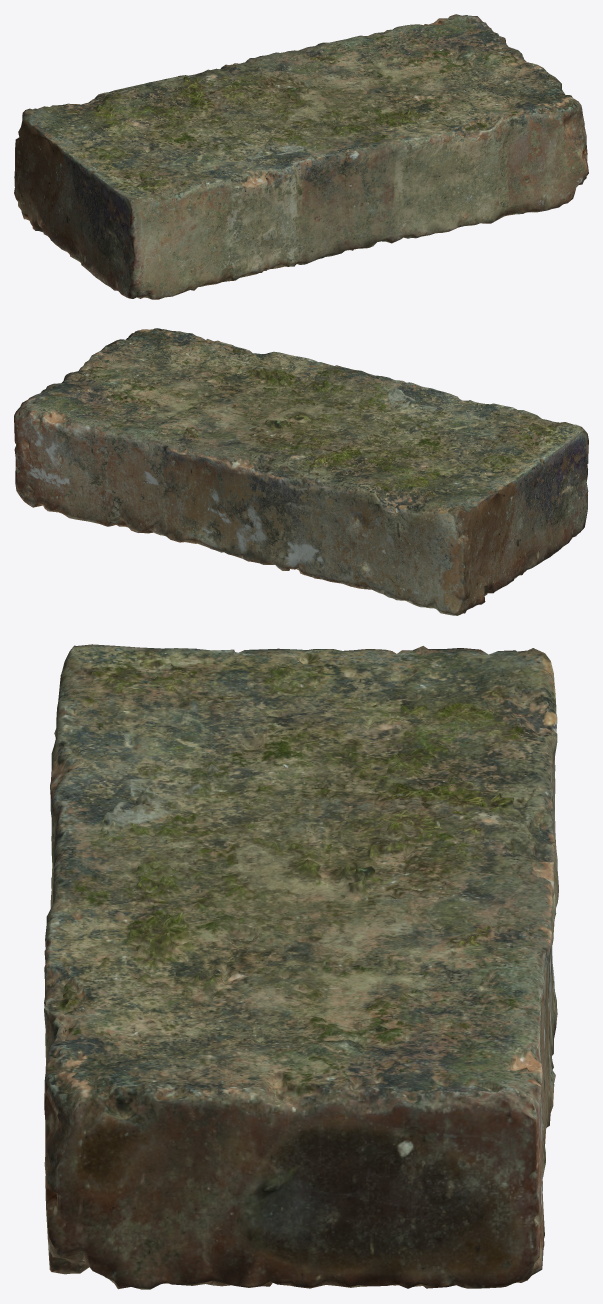
File: PX_Fired_brick_01_LOD1.fbx
3 renders of one model, top to bottom at view 1: azimuth 30°, elevation 25°; view 2: azimuth 150°, elevation 25°; view 3: azimuth 270°, elevation 25°, orthographic. The views are drawn at different scales.
Visible parts, largest first — view 1: PX_Fired_brick_01_LOD1; view 2: PX_Fired_brick_01_LOD1; view 3: PX_Fired_brick_01_LOD1.
Boxes of the visible parts, x1=… form: PX_Fired_brick_01_LOD1: x1=14, y1=14, x2=588, y2=299; PX_Fired_brick_01_LOD1: x1=14, y1=328, x2=588, y2=615; PX_Fired_brick_01_LOD1: x1=44, y1=644, x2=558, y2=1289.
Size of the model in its own units: 26.82 by 6.19 by 13.04.
